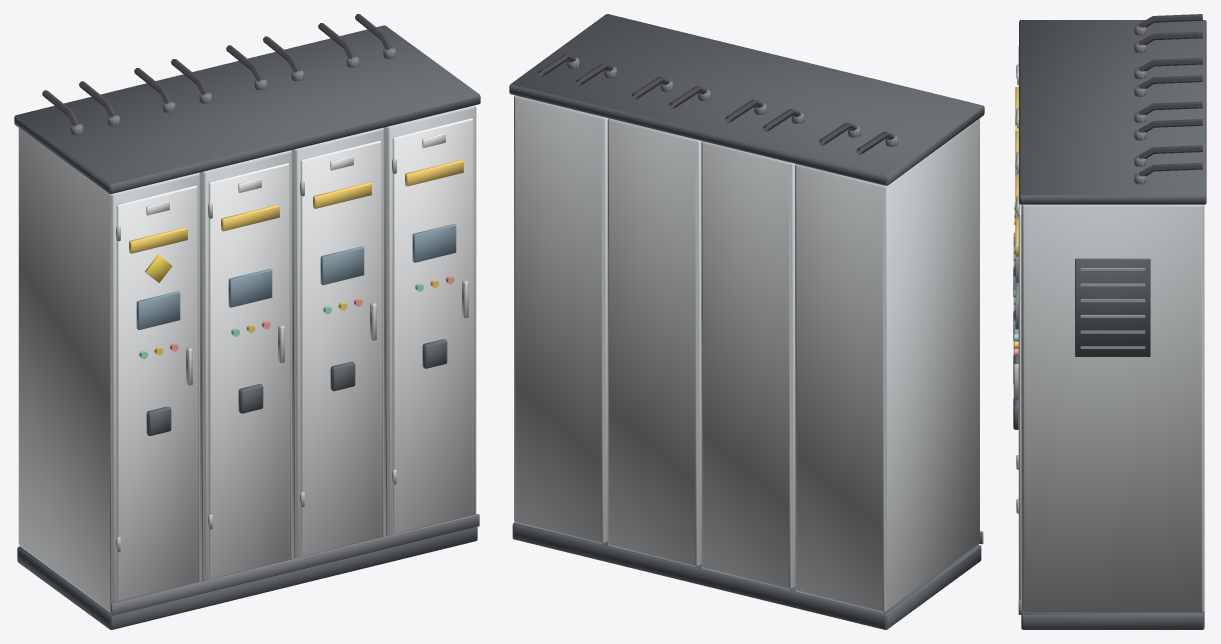
File: switchgear.glb
3 views of the same model, side by side, from view 1: azimuth 30°, elevation 25°; view 2: azimuth 150°, elevation 25°; view 3: azimuth 270°, elevation 25° (orthographic). The views are drawn at different scales.
Parts seen in each view (by area): view 1: Body; view 2: Body; view 3: Body.
Part boxes in pixels (x1,y1,x2,y2): Body: [14, 14, 480, 629]; Body: [509, 14, 984, 629]; Body: [1013, 14, 1206, 629].
Size of the model in its own units: 1.95 by 2.33 by 0.897.
